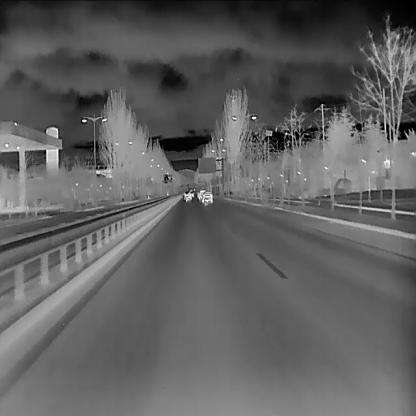car: (200, 190, 213, 202), (183, 190, 191, 200), (198, 189, 206, 199), (190, 190, 194, 197)
